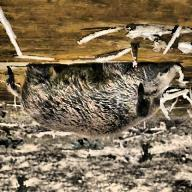boar: (0, 41, 192, 149)
